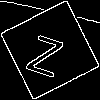Z: (25, 25, 68, 78)
